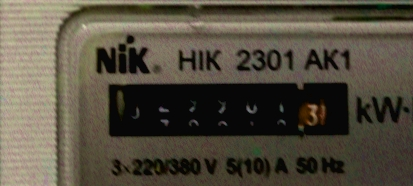0: (124, 92, 142, 119), (243, 85, 259, 114)
1: (274, 84, 287, 112)
2: (154, 86, 172, 113)
3: (303, 99, 320, 125)
9: (184, 86, 200, 113), (215, 86, 228, 114)
screen: (99, 71, 359, 144)
